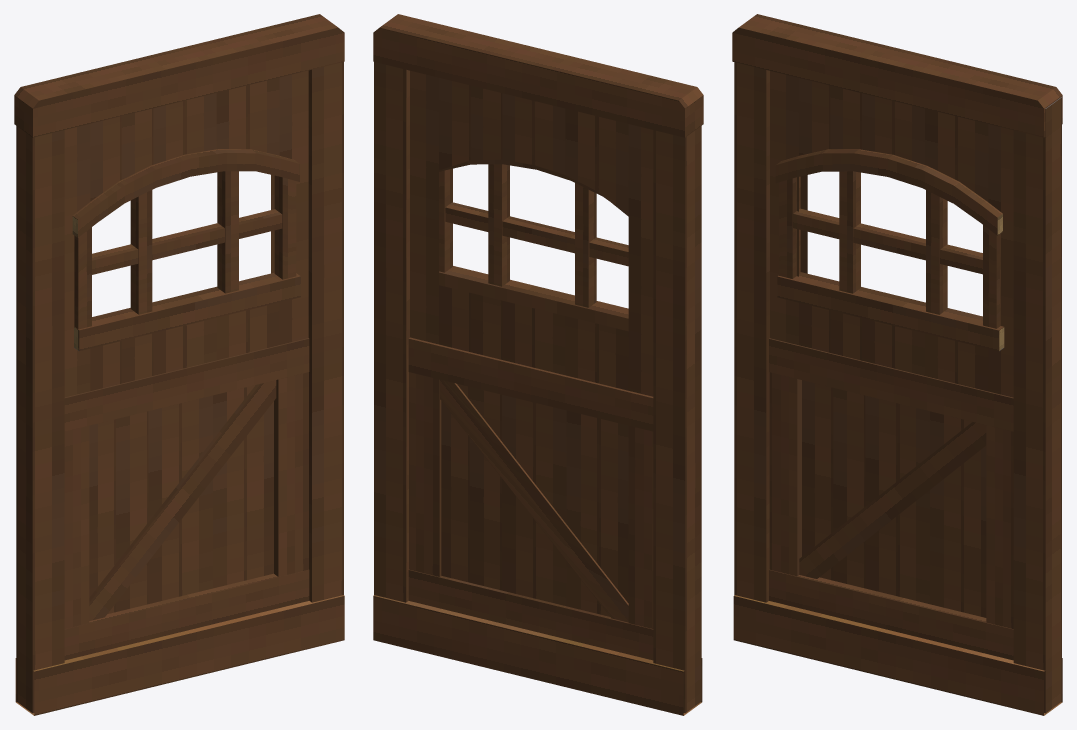
Rendered from door-CV78iVpN.glb.
3 renders of one model, left to right at view 1: azimuth 30°, elevation 25°; view 2: azimuth 150°, elevation 25°; view 3: azimuth 330°, elevation 25°, orthographic.
Bounding box in the file's own units: 1.12 × 2.1 × 0.1207.
1 material, 1 textured.
